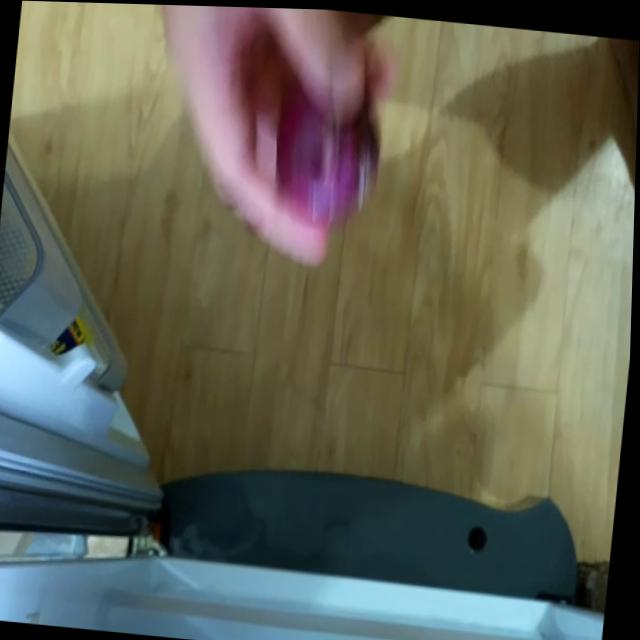onion: (263, 83, 388, 232)
